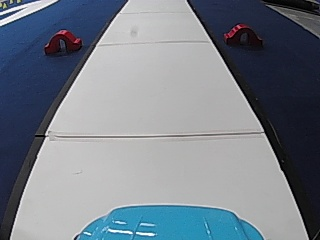bridge: (221, 20, 264, 47), (43, 26, 82, 55)
